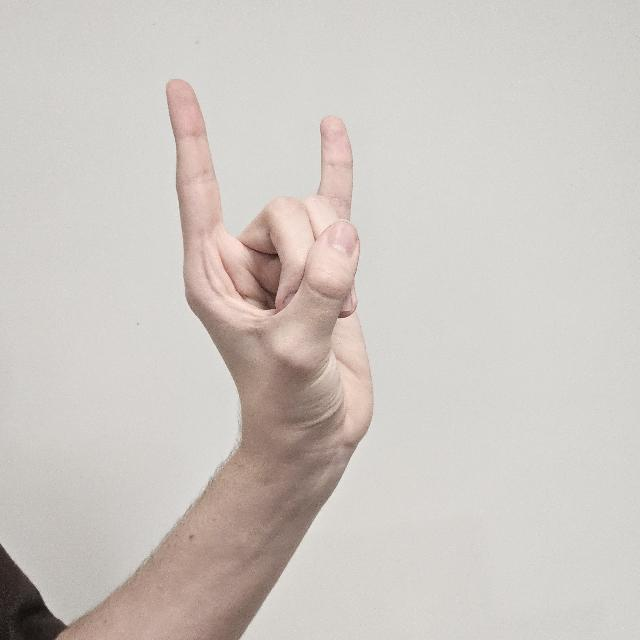L: (165, 78, 373, 450)
